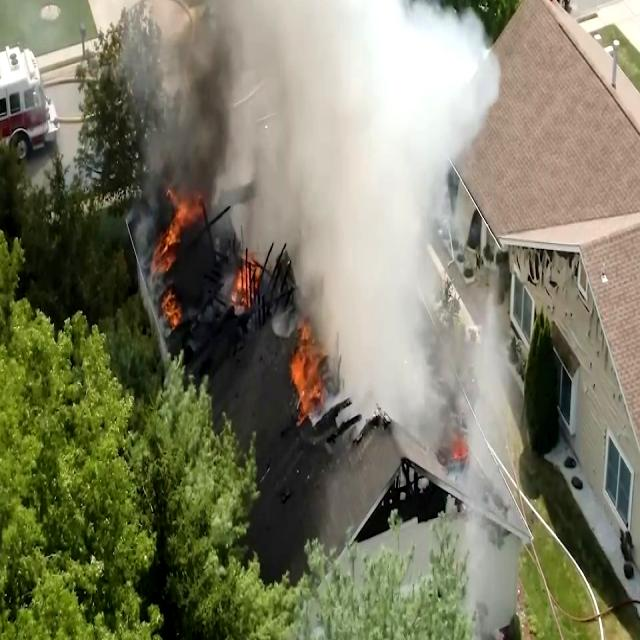smoke: (270, 0, 455, 225)
